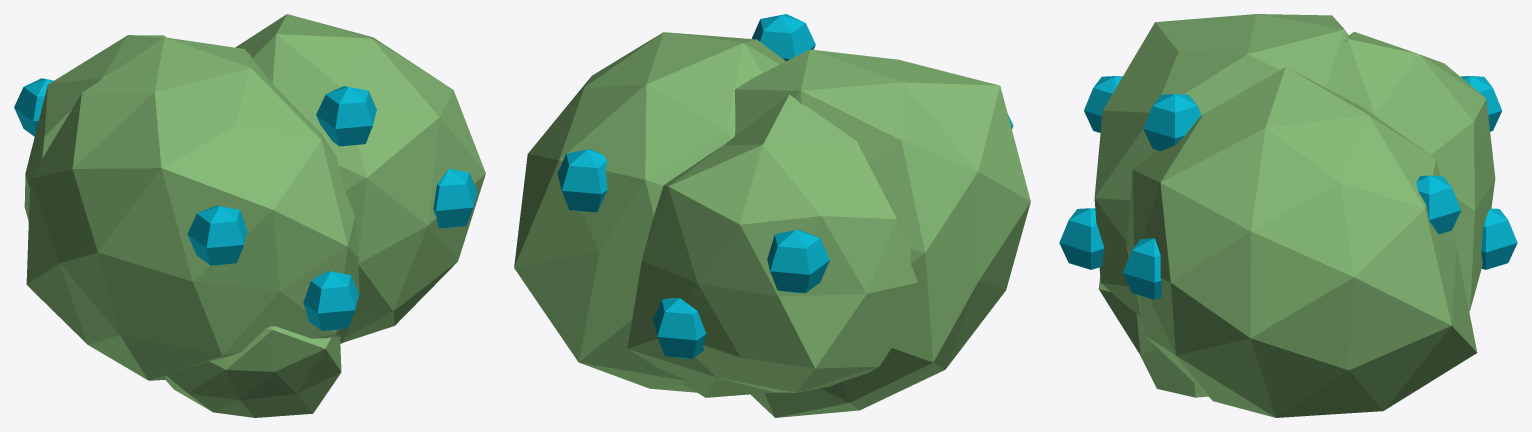
Rendered from Bush.fbx.
The picture shows the model from 3 angles, left to right: view 1: azimuth 30°, elevation 25°; view 2: azimuth 150°, elevation 25°; view 3: azimuth 270°, elevation 25°; orthographic projection. The views are drawn at different scales.
Parts seen in each view (by area): view 1: Icosphere, pSphere3, pSphere4, pSphere5, pSphere6, pSphere7; view 2: Icosphere, pSphere7, pSphere9, pSphere8, pSphere4; view 3: Icosphere, pSphere4, pSphere5, pSphere6, pSphere9, pSphere8, pSphere3, pSphere7.
Part boxes in pixels (bbox=[...]): Icosphere: bbox=[24, 14, 485, 417]; pSphere3: bbox=[187, 205, 247, 265]; pSphere4: bbox=[316, 86, 376, 146]; pSphere5: bbox=[303, 271, 359, 330]; pSphere6: bbox=[433, 168, 477, 228]; pSphere7: bbox=[14, 78, 53, 136]; Icosphere: bbox=[514, 32, 1030, 417]; pSphere7: bbox=[767, 229, 829, 292]; pSphere9: bbox=[557, 149, 607, 212]; pSphere8: bbox=[653, 298, 705, 358]; pSphere4: bbox=[751, 14, 815, 61]; Icosphere: bbox=[1094, 14, 1495, 417]; pSphere4: bbox=[1143, 94, 1201, 151]; pSphere5: bbox=[1059, 208, 1104, 269]; pSphere6: bbox=[1123, 238, 1161, 299]; pSphere9: bbox=[1416, 175, 1461, 234]; pSphere8: bbox=[1481, 208, 1517, 269]; pSphere3: bbox=[1084, 76, 1122, 132]; pSphere7: bbox=[1460, 76, 1502, 131].
Size of the model in its own units: 0.0588 by 0.0468 by 0.0557.
